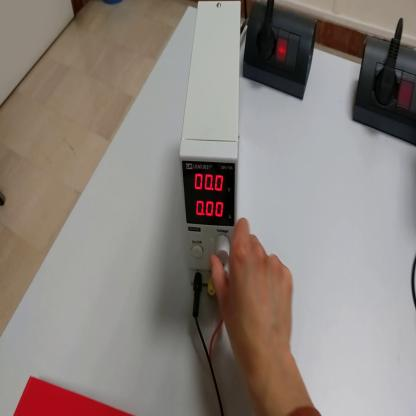hand: (212, 217, 296, 375)
power supply: (180, 1, 241, 297)
register: (15, 375, 153, 413)
socket: (243, 3, 320, 101), (352, 35, 415, 144)
